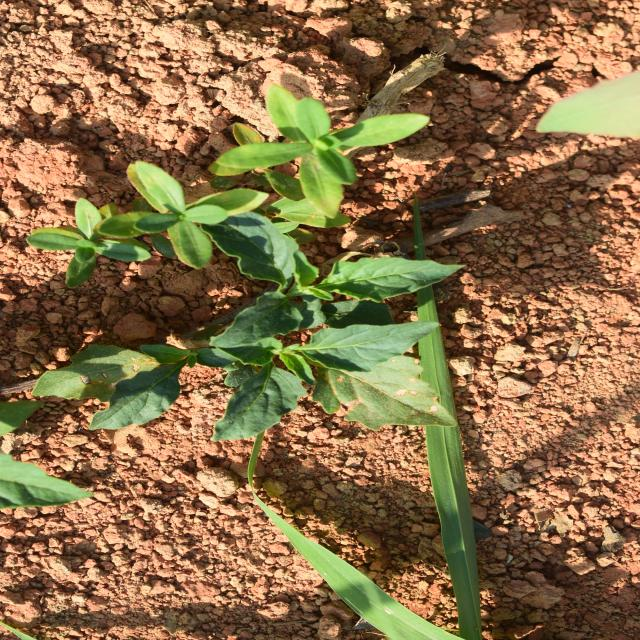Black_nightshade: (206, 123, 423, 456)
